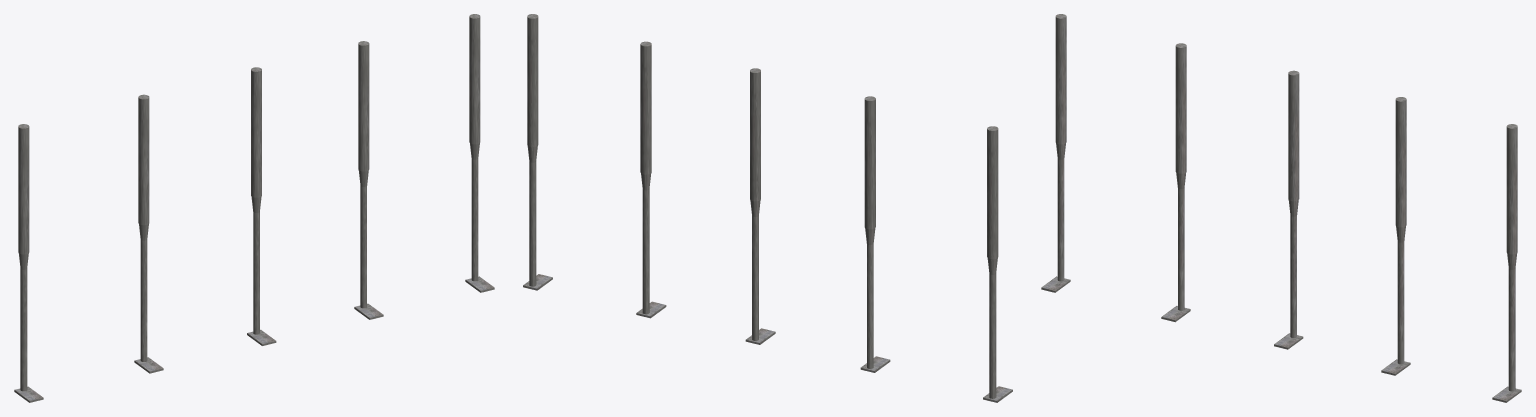
The model's file is streetLight.obj.
3 renders of one model, left to right at view 1: azimuth 30°, elevation 25°; view 2: azimuth 150°, elevation 25°; view 3: azimuth 330°, elevation 25°, orthographic.
Visible parts, largest first — view 1: Cylinder; view 2: Cylinder; view 3: Cylinder.
Part boxes in pixels (left/top/right/bottom): Cylinder: left=14, top=14, right=494, bottom=402; Cylinder: left=523, top=14, right=1012, bottom=402; Cylinder: left=1041, top=14, right=1521, bottom=402.
Size of the model in its own units: 31.92 by 17.41 by 1.85.
